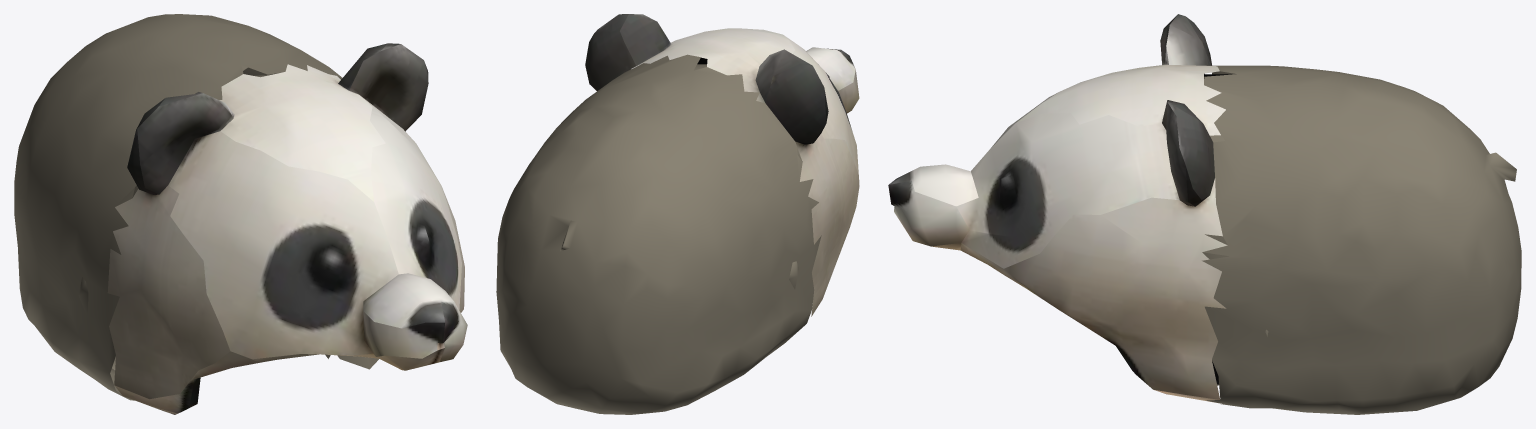
File: panda.glb
The picture shows the model from 3 angles, left to right: view 1: azimuth 30°, elevation 25°; view 2: azimuth 150°, elevation 25°; view 3: azimuth 270°, elevation 25°; orthographic projection. The views are drawn at different scales.
Parts seen in each view (by area): view 1: geometry_0, HoodAnatomicalLining; view 2: geometry_0; view 3: geometry_0.
Part boxes in pixels (x1,y1,x2,y2): geometry_0: (14,14,467,414); HoodAnatomicalLining: (78,75,378,409); geometry_0: (496,14,859,414); geometry_0: (888,14,1521,414).
Bounding box in the file's own units: 0.4603 × 0.5099 × 0.915.
Materials: 2 (1 with a texture image).
